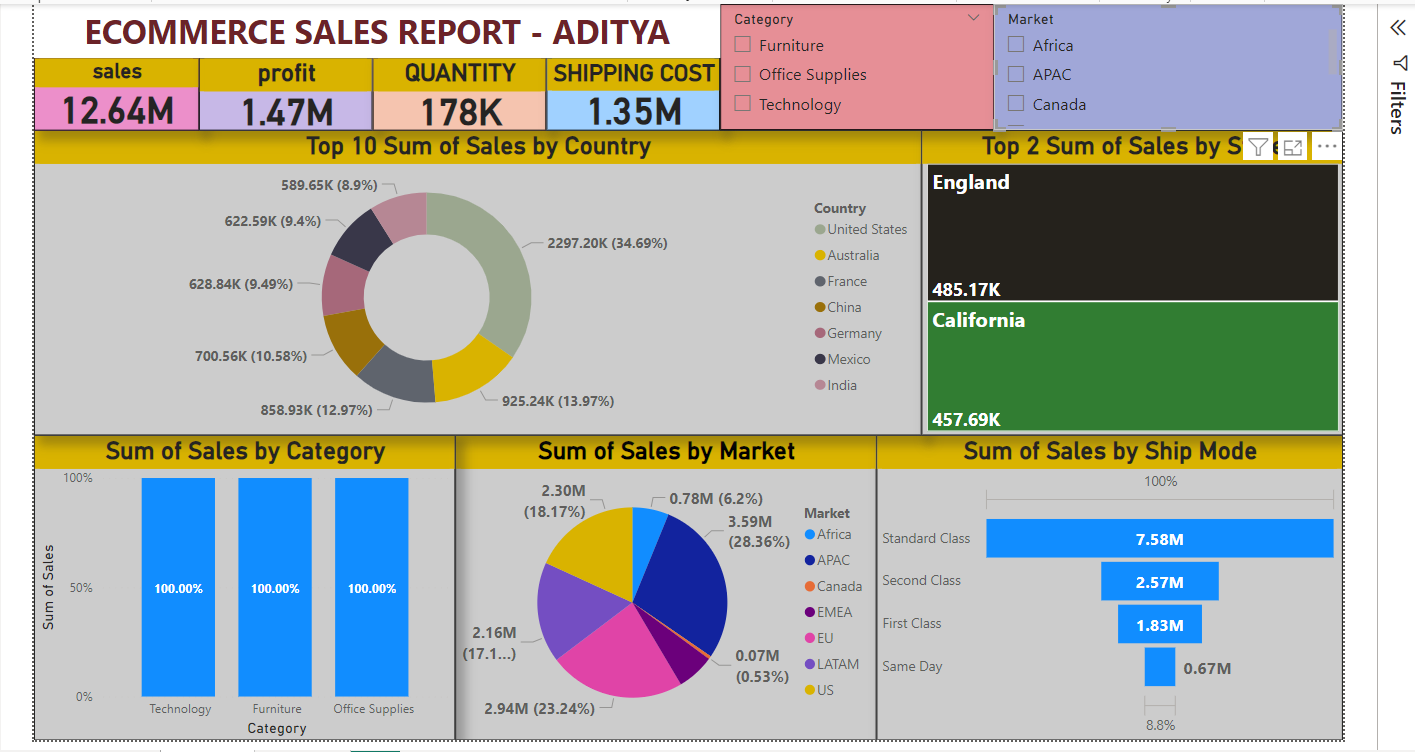

The page's visual inventory and layout, read from the dashboard file:
{"tool":"powerbi","page":{"name":"Page 1","canvas":[1280,720],"ordinal":0},"visuals":[{"type":"pieChart","fields":{"Y":["Orders.Sales"],"Series":["Orders.Market"]},"box":[412,421.7,412,298.3],"z":0},{"type":"funnel","fields":{"Y":["Orders.Sales"],"Category":["Orders.Ship Mode"]},"box":[823.9,421.7,456,298.3],"z":1000},{"type":"hundredPercentStackedColumnChart","fields":{"Category":["Orders.Category"],"Y":["Orders.Sales"]},"box":[0,421.7,412,298.3],"z":2000},{"type":"donutChart","title":" Top 10 Sum of Sales by Country","fields":{"Category":["Orders.Country"],"Y":["Orders.Sales"]},"box":[0,123.5,867.9,298.3],"z":3000},{"type":"treemap","title":" Top 2 Sum of Sales by State","fields":{"Group":["Orders.State"],"Values":["Orders.Sales"]},"box":[867.9,123.5,412,298.3],"z":4000},{"type":"card","title":"sales","fields":{"Values":["Orders.Sales"]},"box":[0,52.6,161.4,70.9],"z":5000},{"type":"card","title":"profit","fields":{"Values":["Orders.Profit"]},"box":[161.4,52.6,169.9,70.9],"z":6000},{"type":"card","title":"QUANTITY","fields":{"Values":["Orders.Quantity"]},"box":[331.3,52.6,169.9,70.9],"z":7000},{"type":"card","title":"SHIPPING COST","fields":{"Values":["Orders.Shipping Cost"]},"box":[501.2,52.6,169.9,70.9],"z":8000},{"type":"slicer","fields":{"Values":["Orders.Category"]},"box":[671.1,0,267.7,123.5],"z":9000},{"type":"slicer","fields":{"Values":["Orders.Market"]},"box":[938.8,0,341.1,123.5],"z":10000},{"type":"textbox","box":[0,0,671.1,52.6],"z":11000}]}

Visuals, with their boxes in screenshot pixels (x1, y1, x2, y2):
pieChart - Orders.Sales x Orders.Market: [x1=450, y1=431, x2=874, y2=738]
funnel - Orders.Sales x Orders.Ship Mode: [x1=874, y1=431, x2=1344, y2=738]
hundredPercentStackedColumnChart - Orders.Category x Orders.Sales: [x1=26, y1=431, x2=450, y2=738]
" Top 10 Sum of Sales by Country" donutChart: [x1=26, y1=123, x2=919, y2=431]
" Top 2 Sum of Sales by State" treemap: [x1=919, y1=123, x2=1344, y2=431]
"sales" card: [x1=26, y1=50, x2=192, y2=123]
"profit" card: [x1=192, y1=50, x2=367, y2=123]
"QUANTITY" card: [x1=367, y1=50, x2=542, y2=123]
"SHIPPING COST" card: [x1=542, y1=50, x2=717, y2=123]
slicer - Orders.Category: [x1=717, y1=0, x2=992, y2=123]
slicer - Orders.Market: [x1=992, y1=0, x2=1344, y2=123]
textbox: [x1=26, y1=0, x2=717, y2=50]
